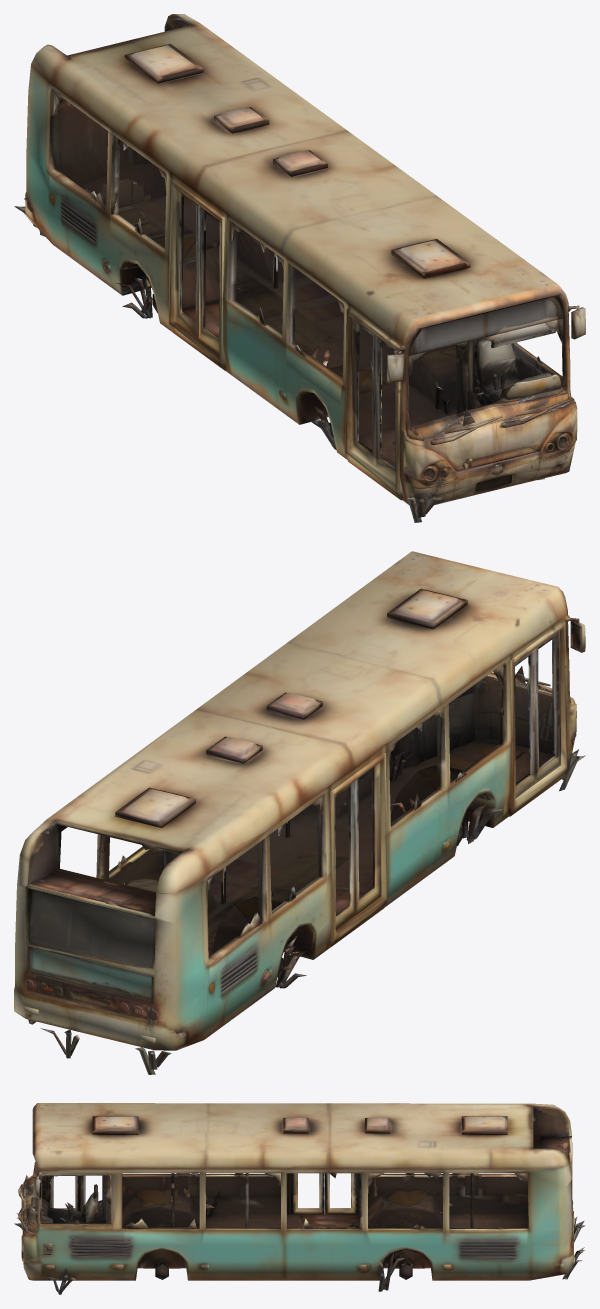
The model's file is bus.fbx.
The picture shows the model from 3 angles, top to bottom: view 1: azimuth 30°, elevation 25°; view 2: azimuth 150°, elevation 25°; view 3: azimuth 270°, elevation 25°; orthographic projection. The views are drawn at different scales.
Visible parts, largest first — view 1: input; view 2: input; view 3: input.
Part boxes in pixels (x1=…): input: x1=14, y1=14, x2=585, y2=522; input: x1=14, y1=551, x2=585, y2=1074; input: x1=14, y1=1103, x2=585, y2=1294.
Size of the model in its own units: 55.87 by 57.42 by 200.
1 material, 1 textured.
